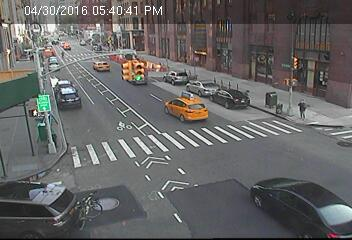neg: (117, 116, 129, 132), (27, 105, 38, 120), (25, 34, 35, 48)
pos: (294, 98, 311, 120)
